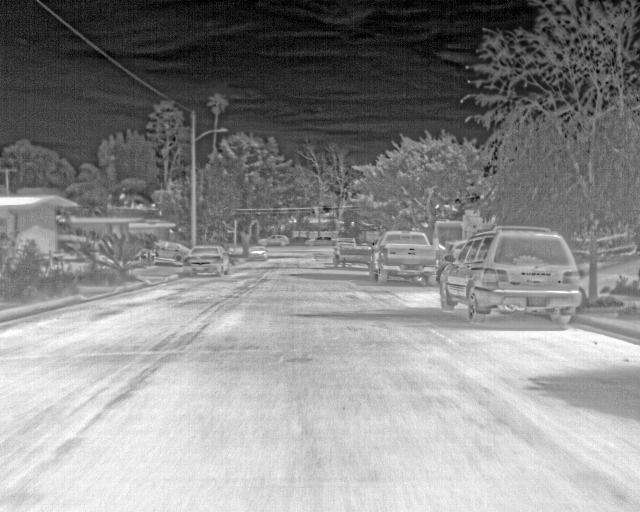car: (440, 225, 586, 328), (369, 229, 438, 285), (181, 243, 231, 276), (152, 239, 191, 267), (255, 232, 290, 248), (303, 235, 335, 248), (248, 243, 268, 261)
